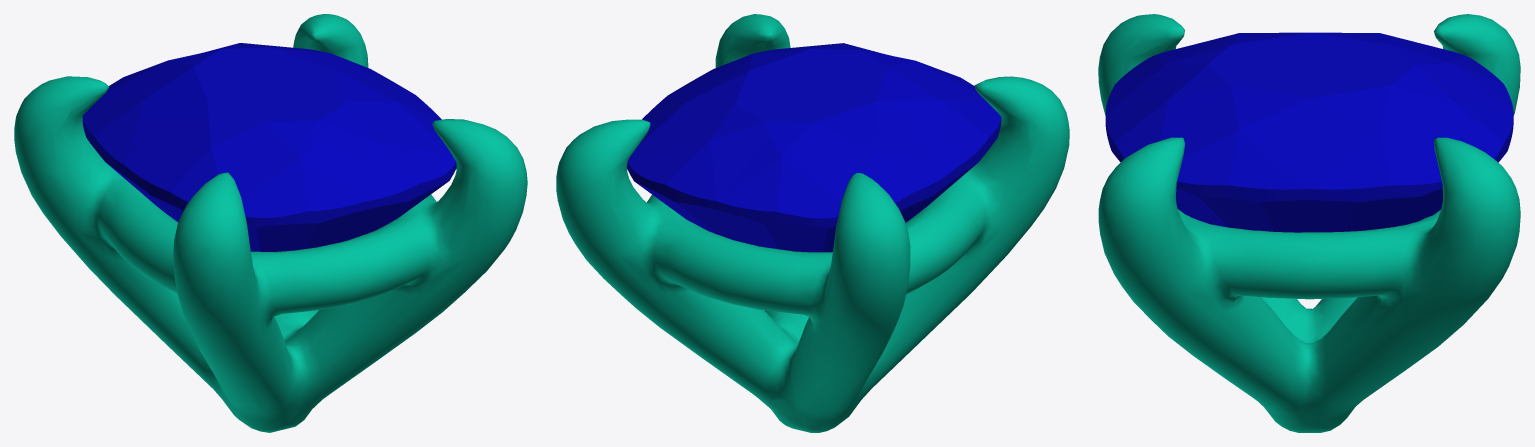
Rendered from Cushion.glb.
The picture shows the model from 3 angles, left to right: view 1: azimuth 30°, elevation 25°; view 2: azimuth 150°, elevation 25°; view 3: azimuth 270°, elevation 25°; orthographic projection. The views are drawn at different scales.
Visible parts, largest first — view 1: /GSMOD388300- CLAW PRONG_Cushion_IJ.3dm, Diamond_Cushion; view 2: /GSMOD388300- CLAW PRONG_Cushion_IJ.3dm, Diamond_Cushion; view 3: /GSMOD388300- CLAW PRONG_Cushion_IJ.3dm, Diamond_Cushion.
Boxes of the visible parts, <box> form: /GSMOD388300- CLAW PRONG_Cushion_IJ.3dm: <box>14,14,527,432</box>; Diamond_Cushion: <box>82,43,456,251</box>; /GSMOD388300- CLAW PRONG_Cushion_IJ.3dm: <box>556,14,1069,432</box>; Diamond_Cushion: <box>627,43,1001,252</box>; /GSMOD388300- CLAW PRONG_Cushion_IJ.3dm: <box>1098,14,1520,432</box>; Diamond_Cushion: <box>1105,32,1513,232</box>.
Size of the model in its own units: 7.34 by 6.95 by 7.35.
